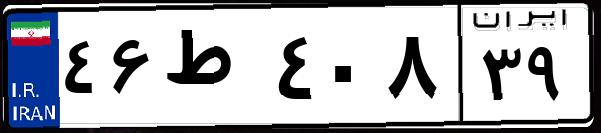0: (330, 28, 385, 110)
3: (475, 38, 525, 113)
4: (270, 28, 330, 110), (57, 26, 110, 100)
6: (110, 28, 158, 98)
8: (385, 28, 445, 110)
9: (525, 38, 570, 115)
ط: (158, 20, 270, 120)
